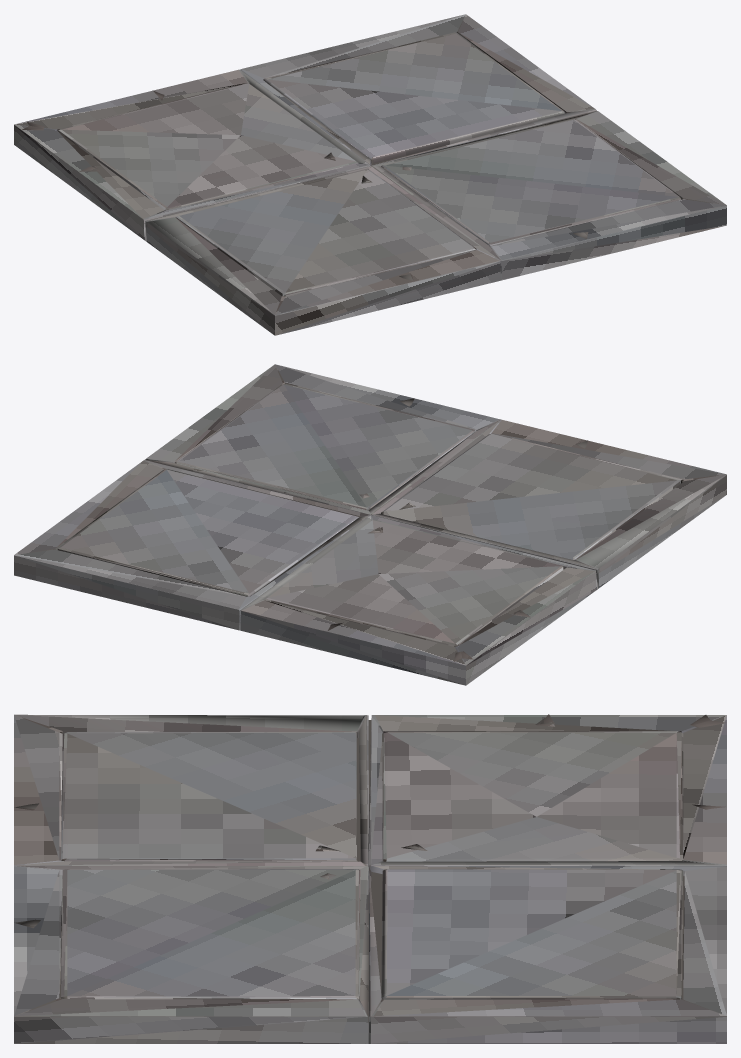
The model's file is floor-plate.lod2.glb.
3 renders of one model, top to bottom at view 1: azimuth 30°, elevation 25°; view 2: azimuth 150°, elevation 25°; view 3: azimuth 270°, elevation 25°, orthographic. The views are drawn at different scales.
Size of the model in its own units: 2 by 0.0997 by 2.
1 material, 1 textured.
